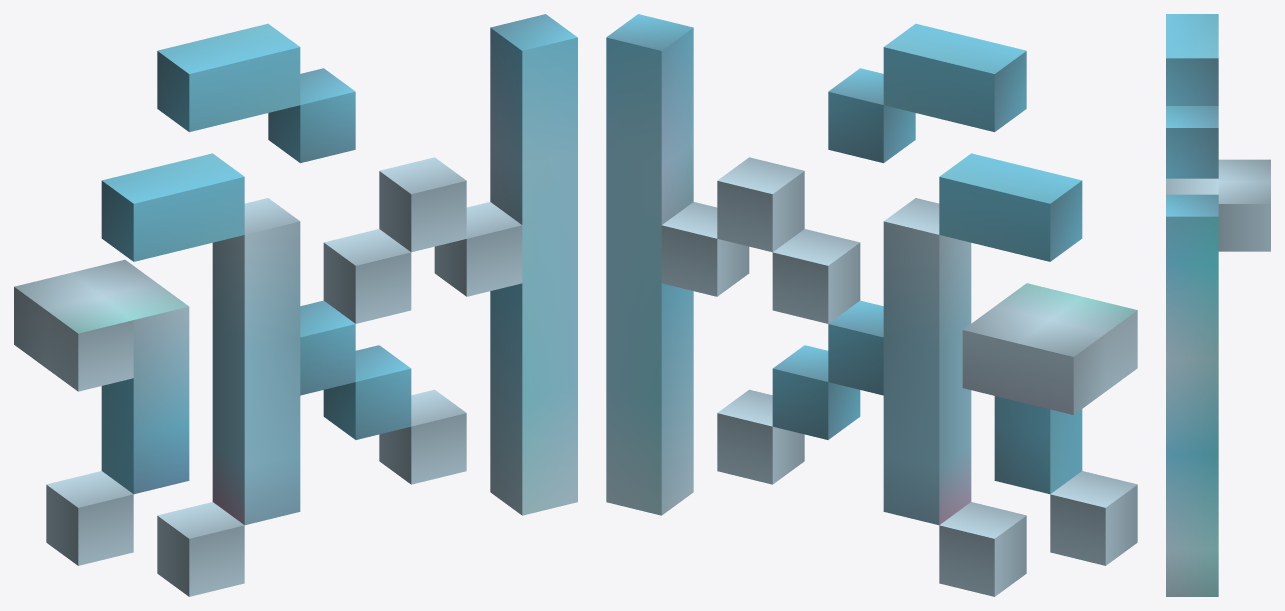
File: BillboardModule_ChineseSymbol_X_00.fbx
The picture shows the model from 3 angles, left to right: view 1: azimuth 30°, elevation 25°; view 2: azimuth 150°, elevation 25°; view 3: azimuth 270°, elevation 25°; orthographic projection. The views are drawn at different scales.
Parts seen in each view (by area): view 1: BillboardModule_ChineseSymbol_X_00; view 2: BillboardModule_ChineseSymbol_X_00; view 3: BillboardModule_ChineseSymbol_X_00.
Part boxes in pixels (x1,y1,x2,y2): BillboardModule_ChineseSymbol_X_00: [14, 14, 577, 596]; BillboardModule_ChineseSymbol_X_00: [606, 14, 1137, 596]; BillboardModule_ChineseSymbol_X_00: [1166, 14, 1270, 596].
Size of the model in its own units: 45 by 45 by 10.
